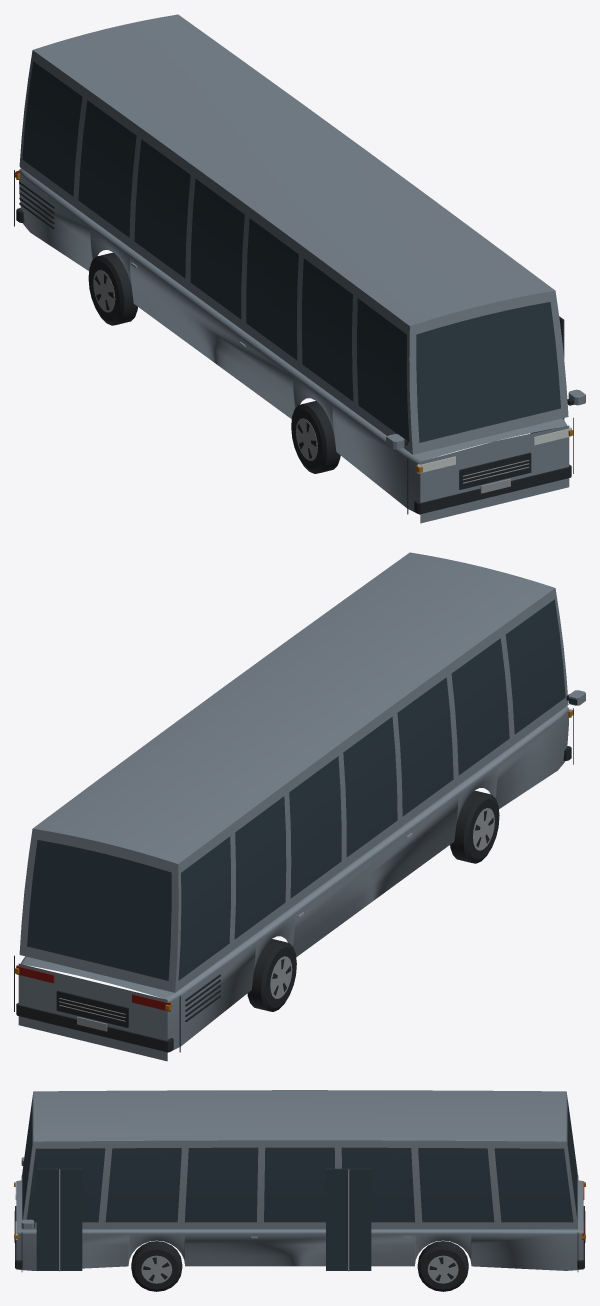
Rendered from bus.glb.
The picture shows the model from 3 angles, top to bottom: view 1: azimuth 30°, elevation 25°; view 2: azimuth 150°, elevation 25°; view 3: azimuth 270°, elevation 25°; orthographic projection. The views are drawn at different scales.
Parts seen in each view (by area): view 1: paint-body, glass-body, rubber-wheel-front-left (×2), rubber-body, headlamp-body; view 2: paint-body, glass-body, rubber-wheel-front-left (×2), rubber-body, taillamp-body, alloy-wheel-front-left; view 3: paint-body, glass-body, rubber-wheel-front-left (×2), alloy-wheel-front-left (×2), alloy-body, rubber-body.
Part boxes in pixels (x1,y1,x2,y2): paint-body: [19, 14, 585, 523]; glass-body: [22, 61, 564, 442]; rubber-wheel-front-left (×2): [88, 252, 340, 473]; rubber-body: [14, 170, 573, 514]; headlamp-body: [417, 427, 571, 473]; paint-body: [18, 552, 585, 1061]; glass-body: [27, 599, 577, 980]; rubber-wheel-front-left (×2): [247, 790, 499, 1011]; rubber-body: [14, 694, 573, 1052]; taillamp-body: [16, 965, 170, 1011]; alloy-wheel-front-left: [270, 956, 292, 998]; paint-body: [16, 1090, 583, 1270]; glass-body: [22, 1100, 577, 1270]; rubber-wheel-front-left (×2): [131, 1241, 468, 1291]; alloy-wheel-front-left (×2): [141, 1255, 458, 1283]; alloy-body: [14, 1169, 585, 1271]; rubber-body: [15, 1175, 584, 1271].
Bounding box in the file's own units: 2.91 × 3.05 × 10.59.
